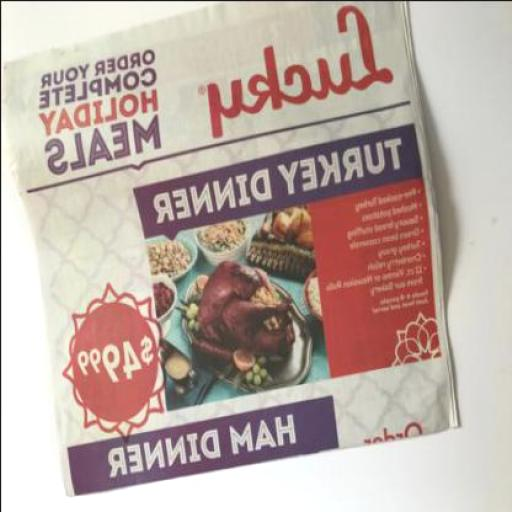paper: (1, 0, 457, 498)
